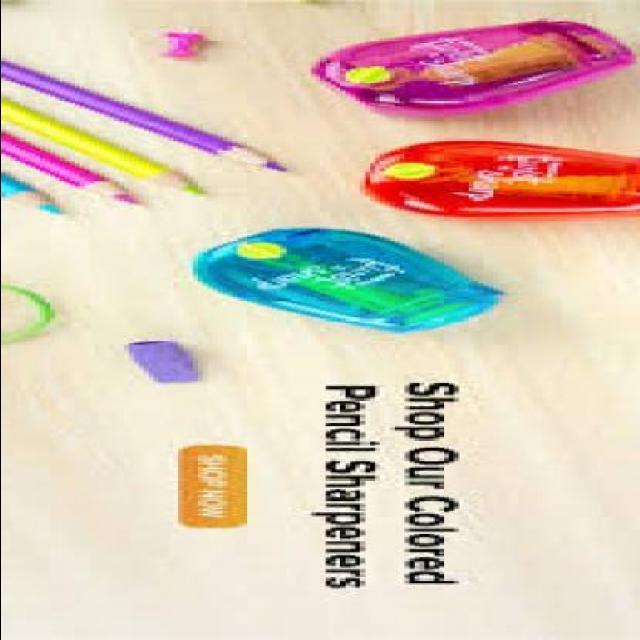pencil: (94, 162, 232, 204), (29, 166, 163, 209), (187, 138, 315, 178)
